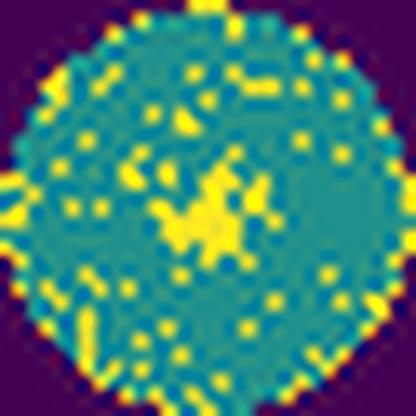Center: (145, 140, 282, 277)
